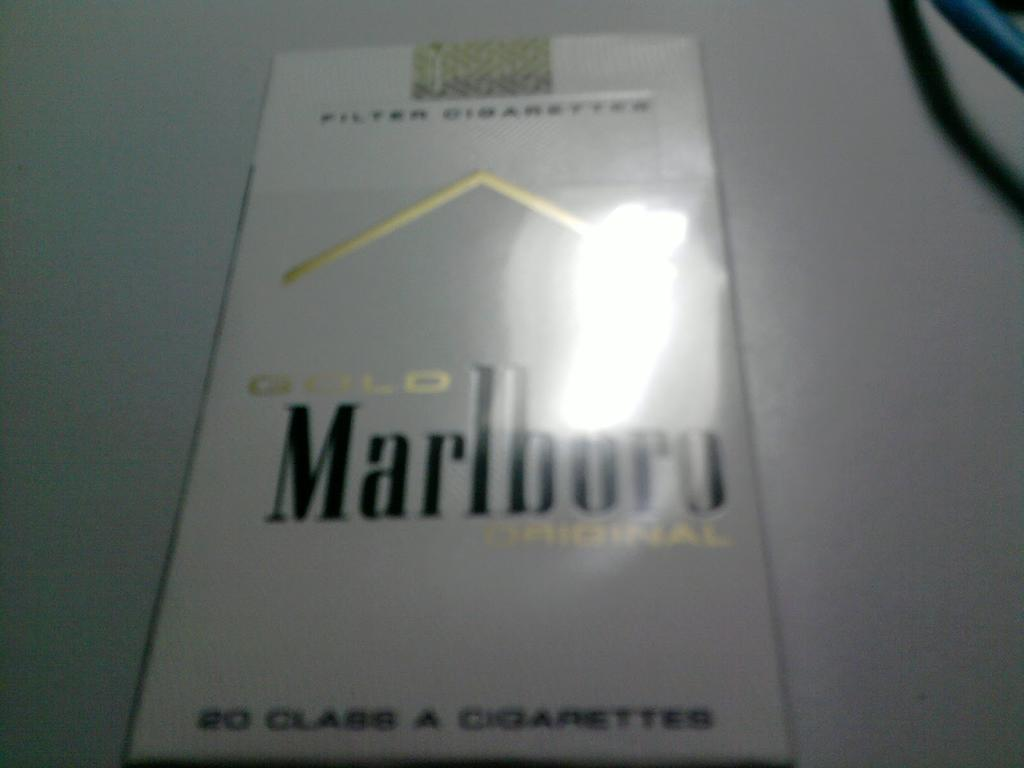marlboro_gold: (251, 37, 729, 768)
